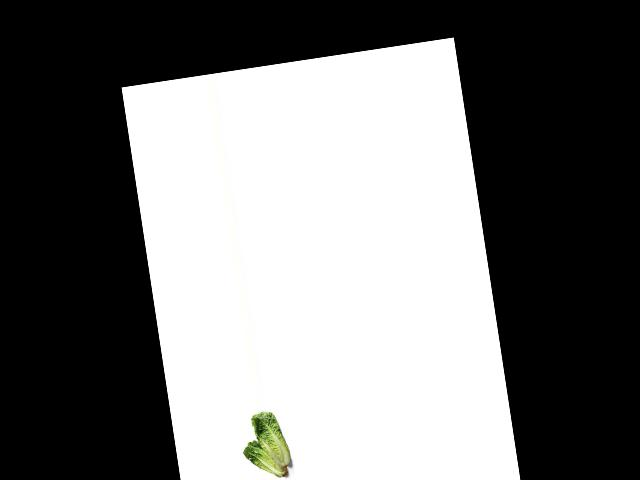lettuce: (241, 435, 290, 480)
